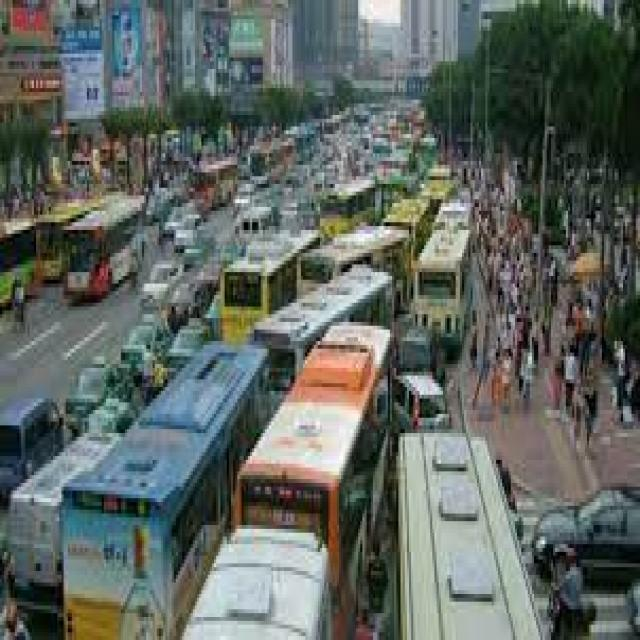bus: (237, 322, 388, 636), (398, 429, 538, 636), (252, 264, 390, 387), (182, 525, 326, 636), (413, 203, 468, 349), (66, 195, 140, 299), (301, 226, 407, 295), (220, 249, 295, 341), (36, 199, 93, 280), (320, 176, 379, 238), (0, 218, 34, 310), (384, 195, 430, 257)
car: (534, 487, 638, 579), (0, 399, 61, 498), (394, 372, 447, 429), (398, 326, 441, 383)
